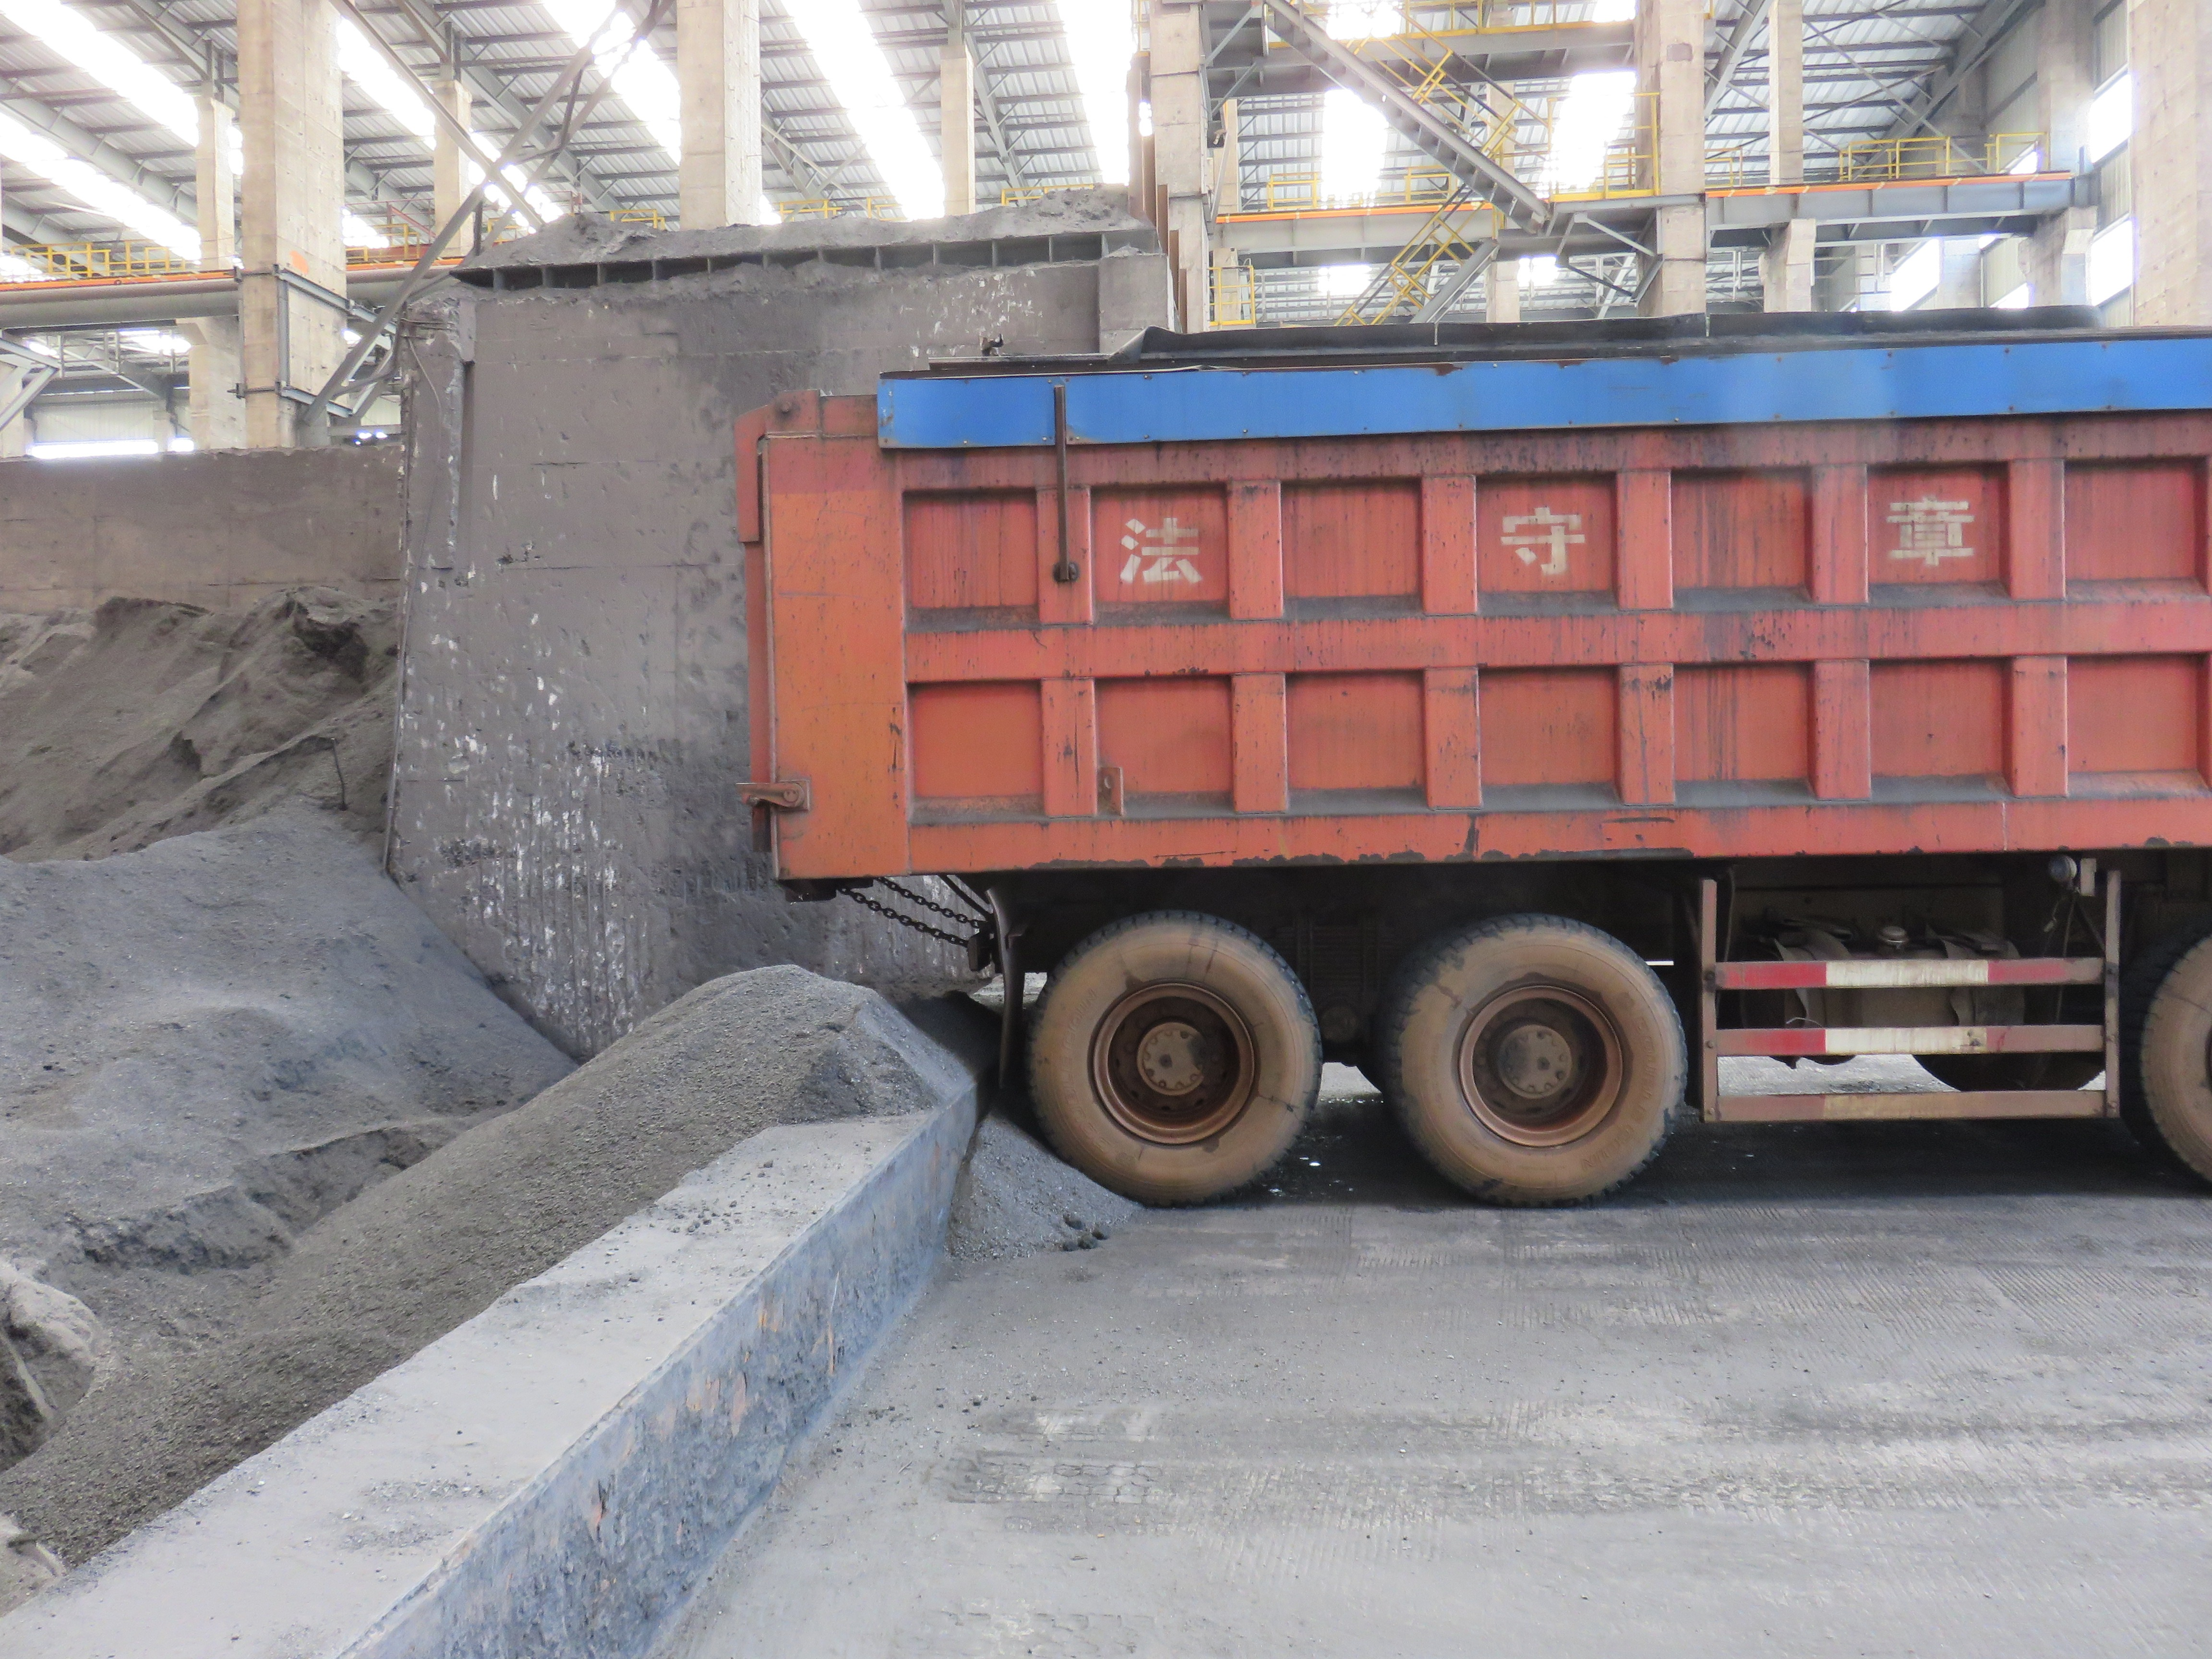truck: (704, 333, 2212, 1199)
